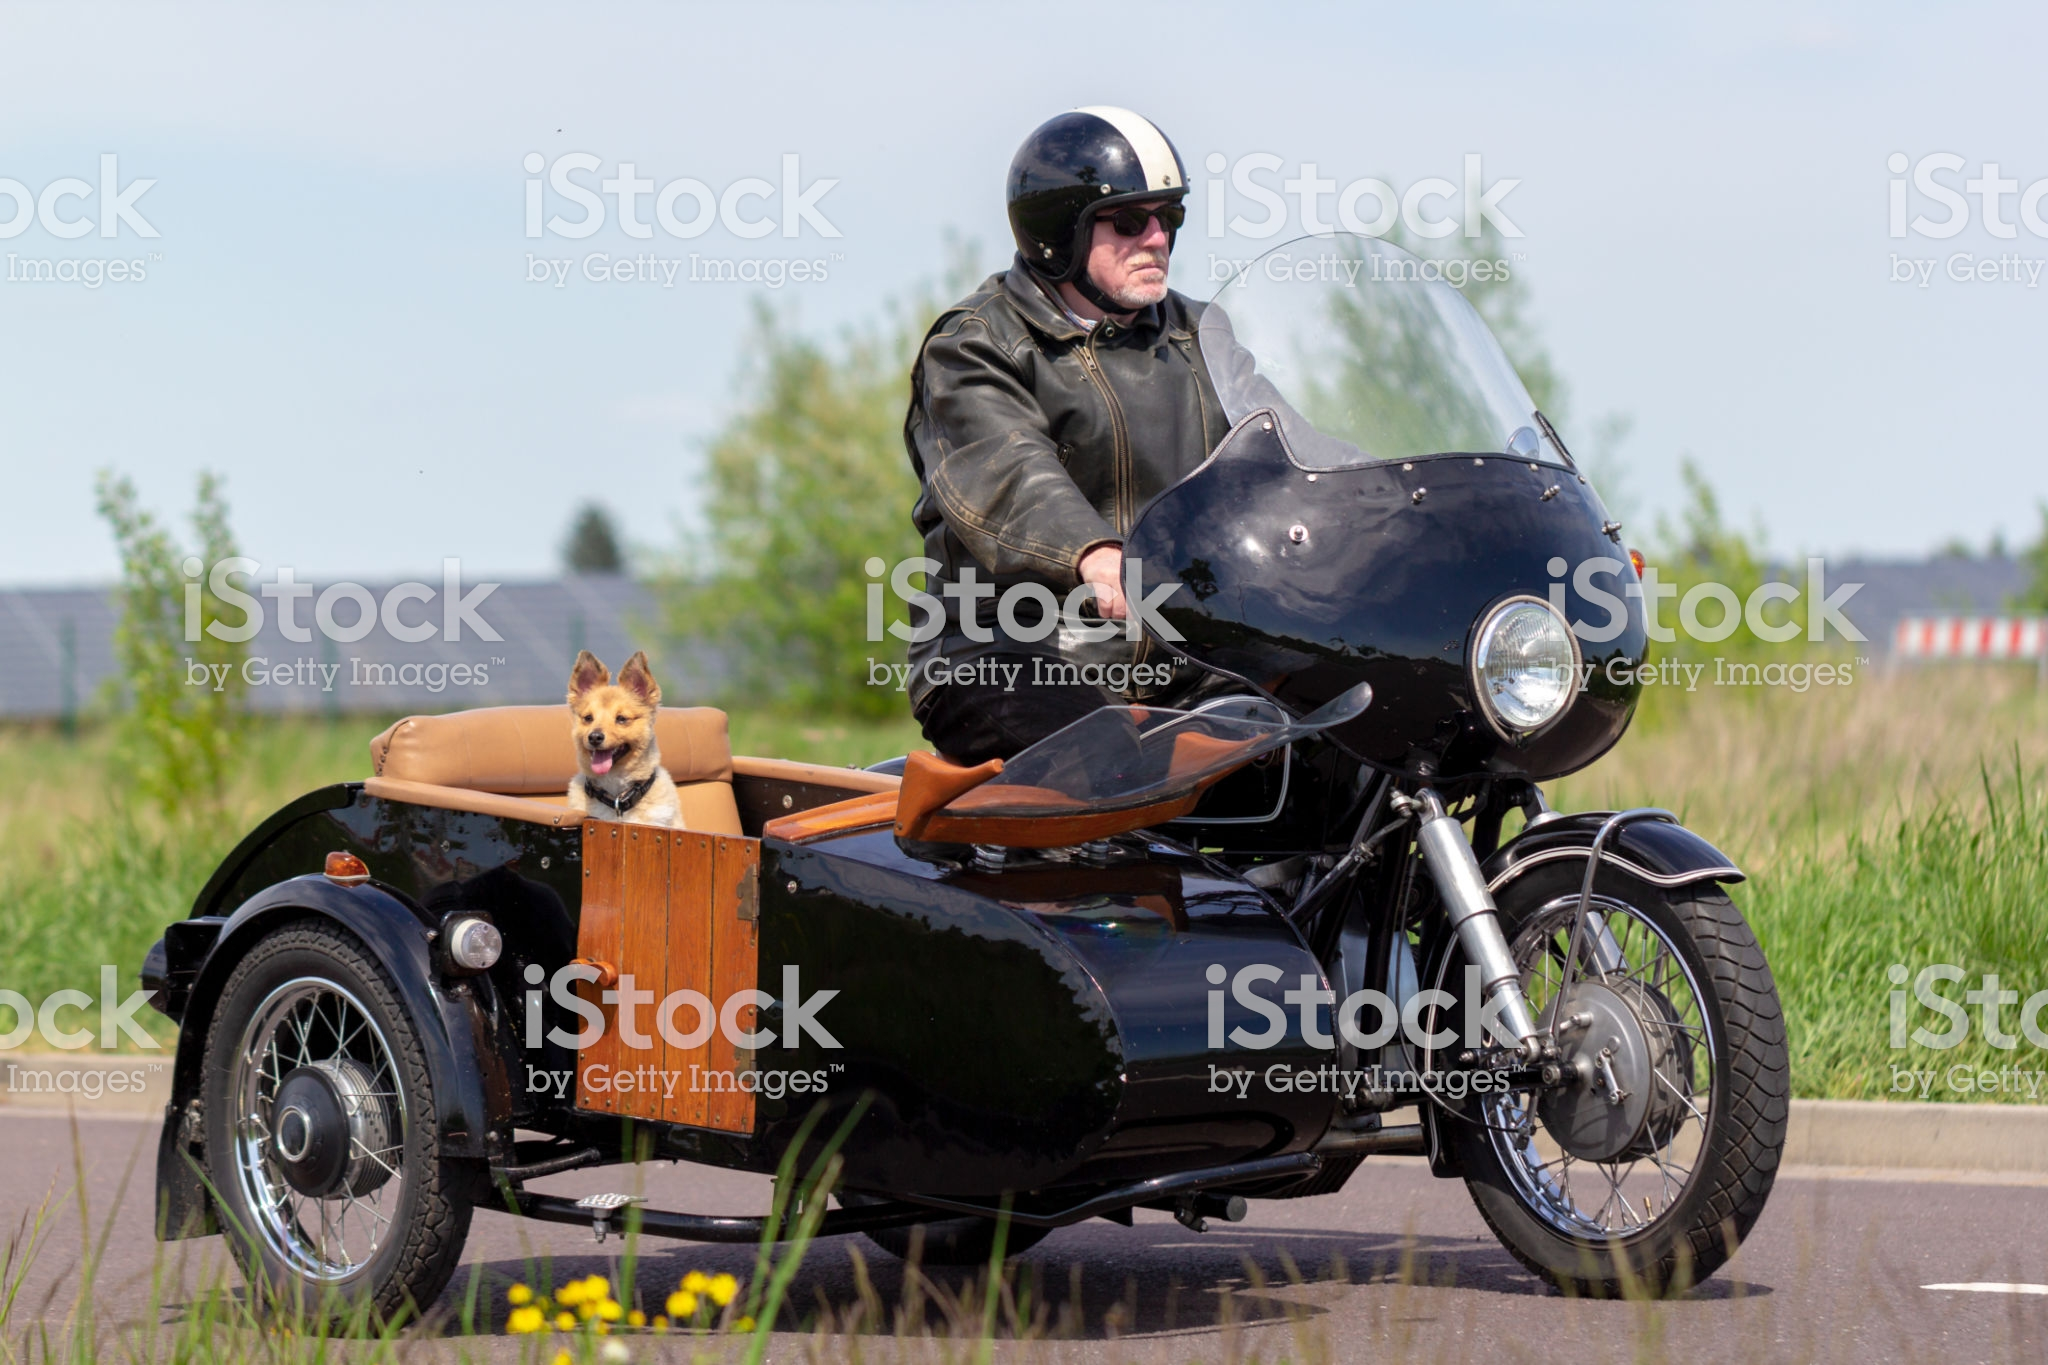helmet: (984, 75, 1195, 302)
